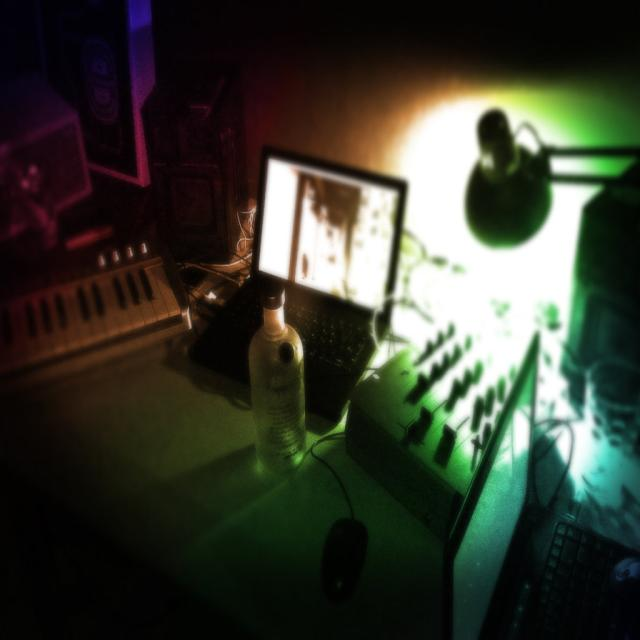Bottle: (240, 270, 313, 504)
